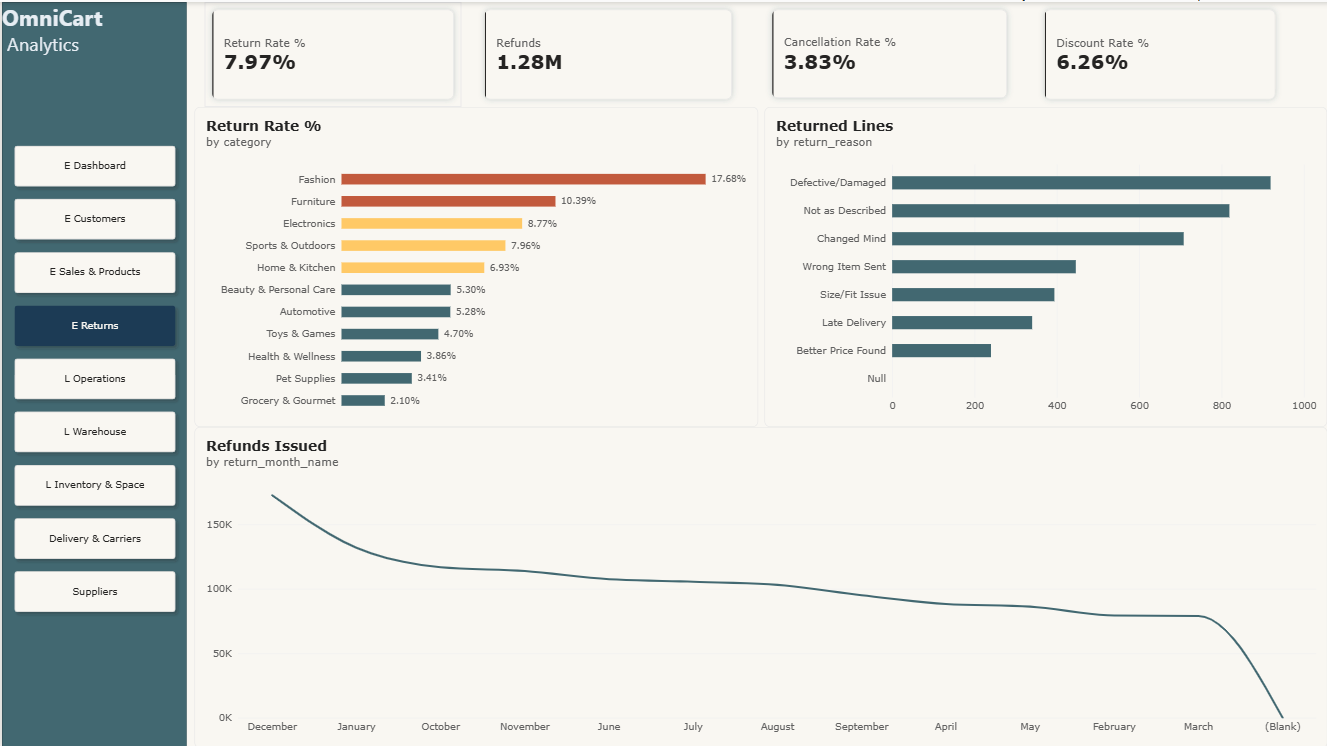

Layout of this report page (visuals, bound fields, positions):
{"tool":"powerbi","page":{"name":"E Returns","canvas":[1920,1080],"ordinal":3},"visuals":[{"type":"shape","box":[0,0,267.6,1080.6],"z":0,"group":"g1"},{"type":"textbox","box":[0,0,267.8,115.8],"z":0},{"type":"textbox","box":[0,0,267.8,115.8],"z":1000,"group":"g1"},{"type":"textbox","box":[14.5,166.5,202.7,32.6],"z":2000},{"type":"group","id":"g1","title":"Group 1","box":[0,0,267.8,1080.6],"z":3000},{"type":"cardVisual","fields":{"Data":["_Measures.Return Rate %"]},"box":[292.3,0,372.6,152.3],"z":4000},{"type":"cardVisual","fields":{"Data":["_Measures.Refunds"]},"box":[687.5,0,380.8,152.3],"z":5000},{"type":"cardVisual","fields":{"Data":["_Measures.Discount Rate %"]},"box":[1498.5,0,356.1,152.3],"z":6000},{"type":"cardVisual","fields":{"Data":["_Measures.Cancellation Rate %"]},"box":[1103.3,0,362.3,150.3],"z":7000},{"type":"barChart","fields":{"Category":["dim_product.category"],"Y":["_Measures.Return Rate %"]},"box":[278.7,152,816.2,463.3],"z":8000},{"type":"barChart","fields":{"Category":["fact_order_items.return_reason"],"Y":["_Measures.Returned Lines"]},"box":[1103.9,152,816.2,463.3],"z":9000},{"type":"lineChart","fields":{"Category":["dim_return_date.return_month_name"],"Y":["_Measures.Refunds Issued"]},"box":[278.7,615.3,1641.4,465.1],"z":10000},{"type":"pageNavigator","box":[9,199.1,251.5,698.5],"z":10500}]}

Visuals, with their boxes on the page's 1920x1080 design canvas (x1, y1, x2, y2). These are canvas units, not pixel positions in the 1327x746 screenshot, which may show the page scaled, cropped or inside an application window:
shape: select_region(0, 0, 268, 1081)
textbox: select_region(0, 0, 268, 116)
textbox: select_region(0, 0, 268, 116)
textbox: select_region(14, 166, 217, 199)
"Group 1" group: select_region(0, 0, 268, 1081)
cardVisual - _Measures.Return Rate %: select_region(292, 0, 665, 152)
cardVisual - _Measures.Refunds: select_region(688, 0, 1068, 152)
cardVisual - _Measures.Discount Rate %: select_region(1498, 0, 1855, 152)
cardVisual - _Measures.Cancellation Rate %: select_region(1103, 0, 1466, 150)
barChart - dim_product.category x _Measures.Return Rate %: select_region(279, 152, 1095, 615)
barChart - fact_order_items.return_reason x _Measures.Returned Lines: select_region(1104, 152, 1920, 615)
lineChart - dim_return_date.return_month_name x _Measures.Refunds Issued: select_region(279, 615, 1920, 1080)
pageNavigator: select_region(9, 199, 260, 898)
